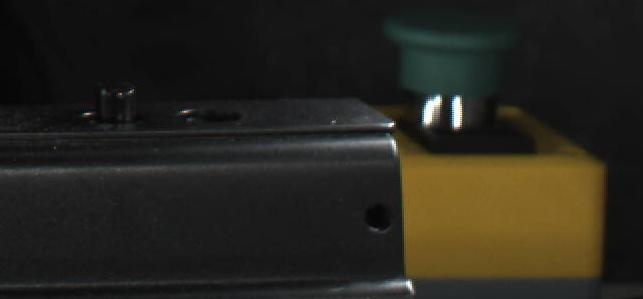screw: (93, 78, 138, 127)
